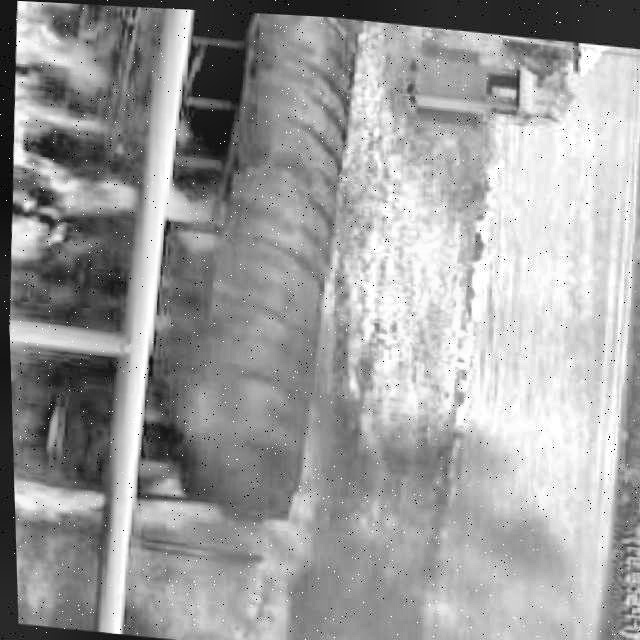Fire: (2, 0, 118, 276), (10, 424, 219, 550), (166, 165, 223, 258)
Smoke: (268, 376, 603, 640)
